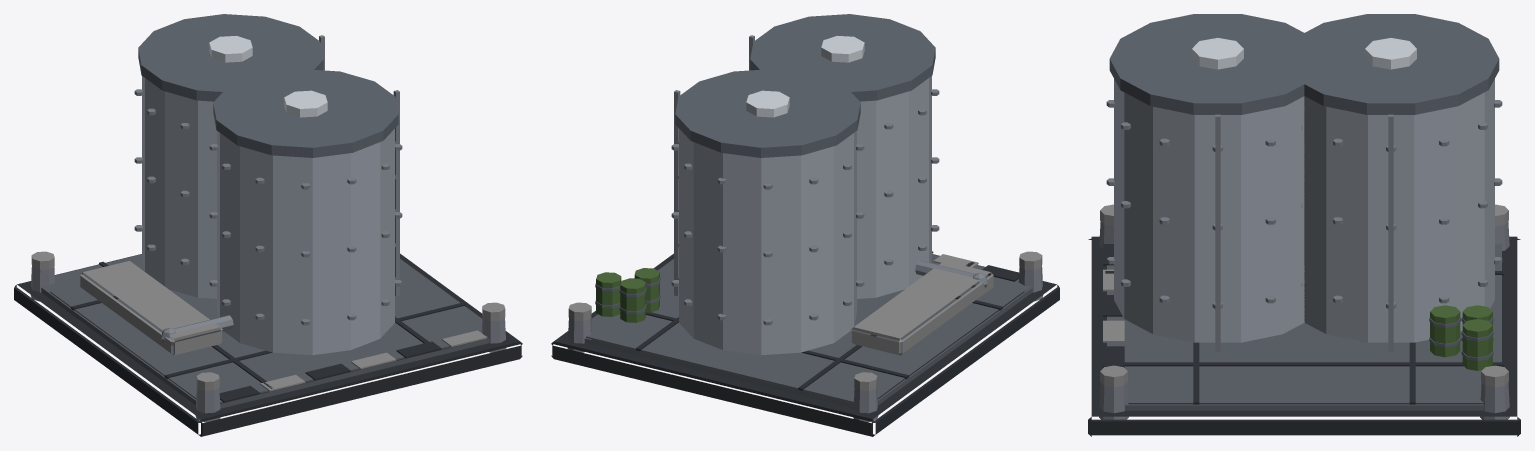
File: con_silo.glb
The picture shows the model from 3 angles, left to right: view 1: azimuth 30°, elevation 25°; view 2: azimuth 150°, elevation 25°; view 3: azimuth 270°, elevation 25°; orthographic projection. The views are drawn at different scales.
Parts seen in each view (by area): view 1: body; view 2: body; view 3: body.
Part boxes in pixels (left/top/right/bottom): body: left=14, top=14, right=522, bottom=436; body: left=551, top=14, right=1059, bottom=436; body: left=1088, top=14, right=1520, bottom=436.
Bounding box in the file's own units: 48 × 36.48 × 48.
